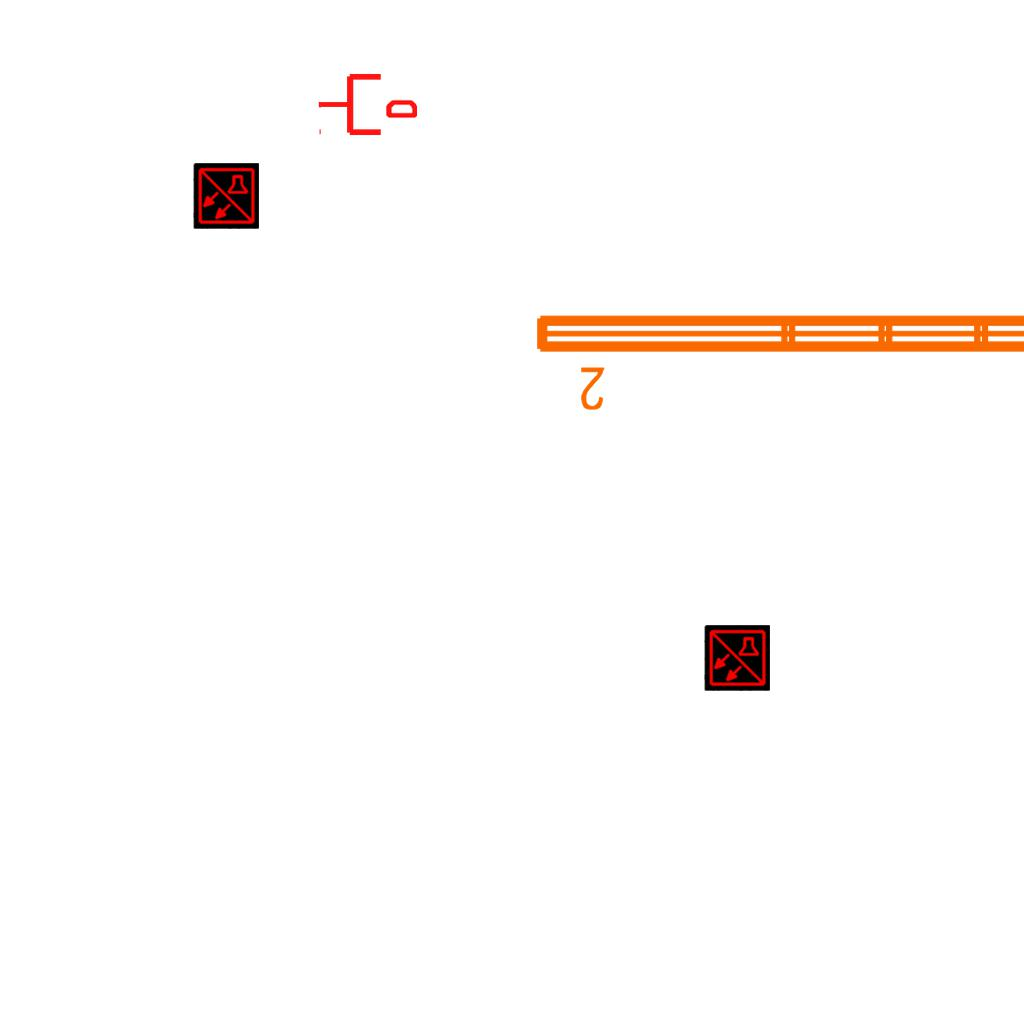Ambulanz_Pendelleuchte_LED: (528, 303, 1024, 415)
Datenanschluss_einfach: (317, 70, 417, 139)
OKW_Multisensormelder_(Kombination_optischer_Rauch-Kahlenmonoxid_Waerme-Melder): (704, 625, 770, 691), (193, 163, 259, 229)
